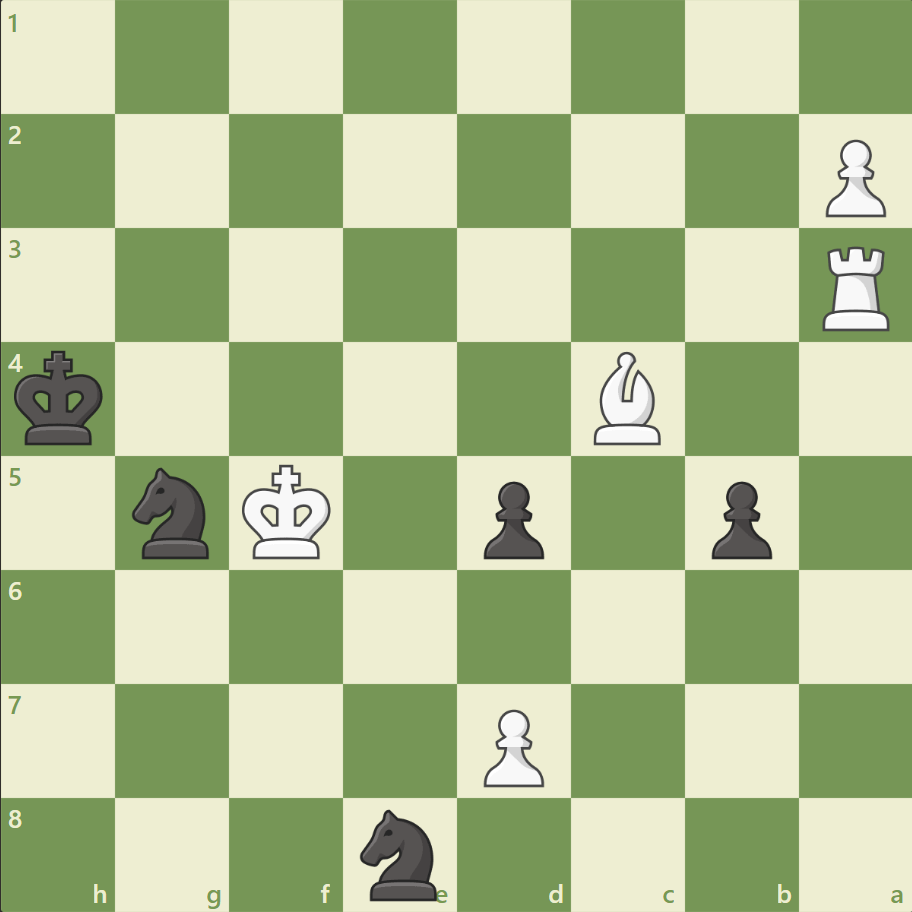B: (585, 347, 669, 449)
K: (238, 458, 338, 566)
P: (474, 700, 549, 791), (815, 132, 889, 223)
R: (814, 239, 897, 336)
k: (11, 344, 111, 452)
n: (124, 461, 222, 564), (351, 802, 449, 904)
p: (701, 473, 776, 564), (474, 473, 549, 564)
